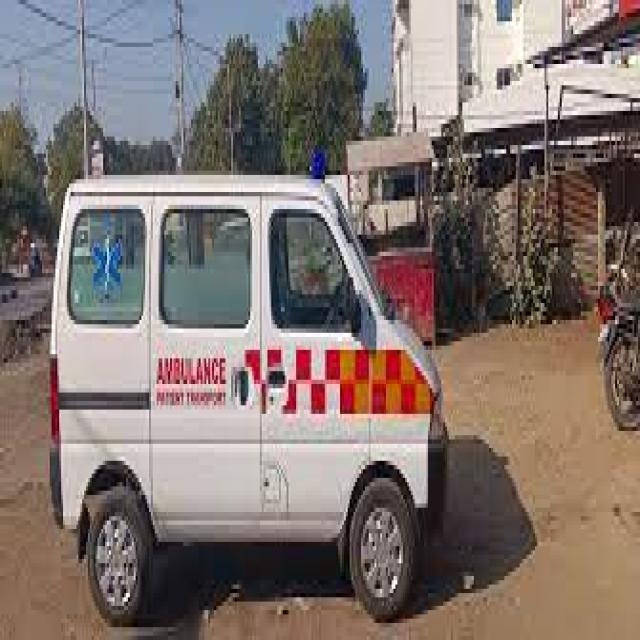ambulance: (47, 145, 452, 640)
